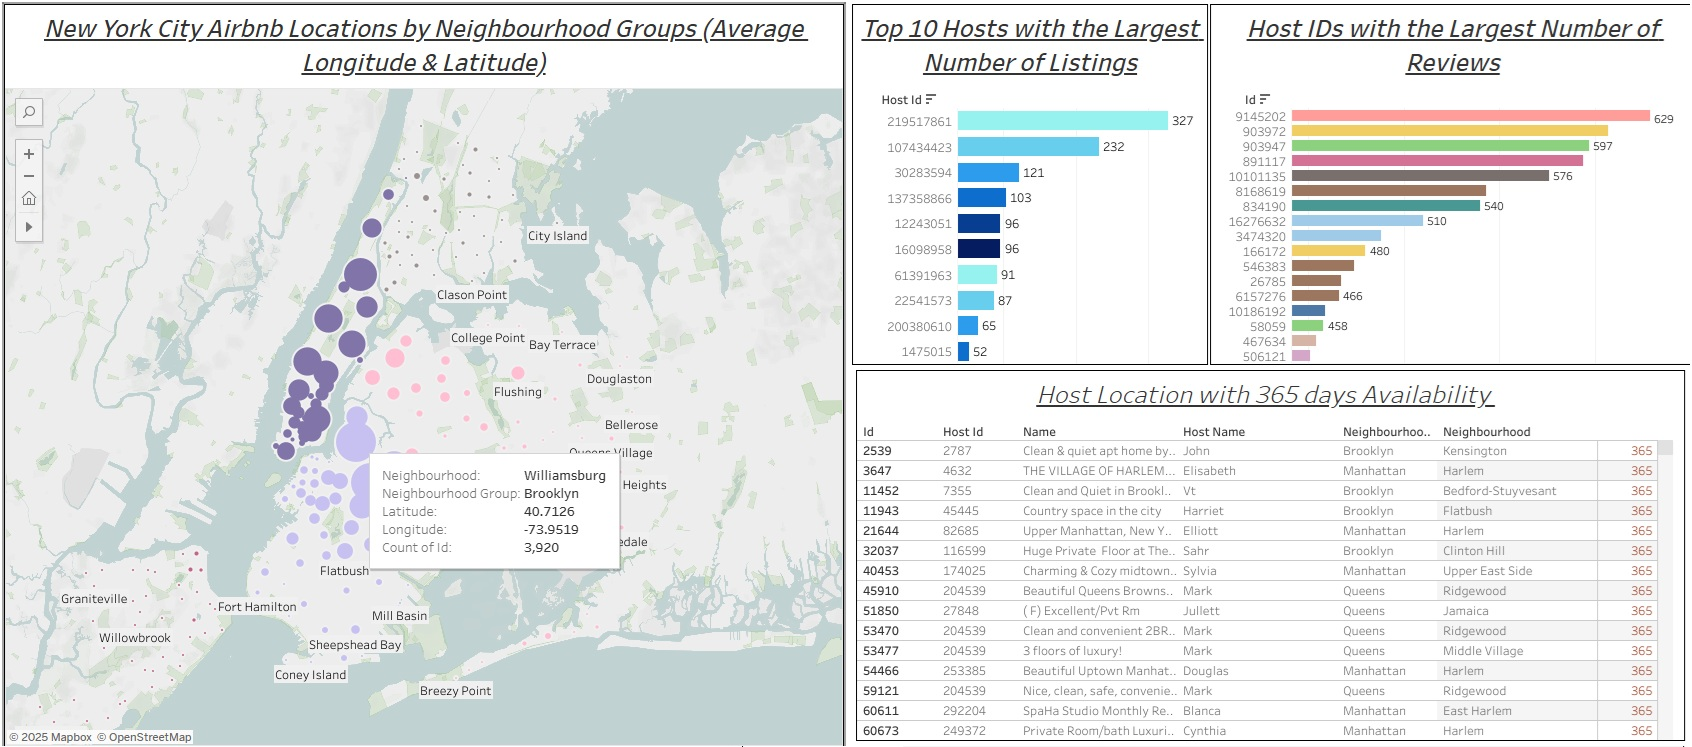

The dashboard page shown, as its layout file describes it:
{"tool":"tableau","page":{"name":"Dashboard 2","canvas":[1700,750],"ordinal":1},"visuals":[{"type":"worksheet","title":"Map by Average Long&Lat","mark":"Circle","rows":["latitude"],"cols":["longitude"],"box":[4,5,840,743]},{"type":"worksheet","title":"Listings per Host Id","mark":"Bar","rows":["host_id"],"cols":["calculated_host_listings_count"],"box":[852,5,356,361]},{"type":"worksheet","title":"Host IDs with Top number of Reviews","mark":"Bar","rows":["id"],"cols":["number_of_reviews"],"box":[1210,5,486,361]},{"type":"worksheet","title":"Availability 365","mark":"Automatic","rows":["id","host_id","name","host_name","neighbourhood_group","neighbourhood"],"box":[856,371,829,371]}]}

Visuals, with their boxes in screenshot pixels (x1, y1, x2, y2), scaled from the page's 1700x750 canvas onto the 1692x747 screenshot:
"Map by Average Long&Lat" worksheet (Circle marks): {"left": 4, "top": 5, "right": 840, "bottom": 745}
"Listings per Host Id" worksheet (Bar marks): {"left": 848, "top": 5, "right": 1202, "bottom": 365}
"Host IDs with Top number of Reviews" worksheet (Bar marks): {"left": 1204, "top": 5, "right": 1688, "bottom": 365}
"Availability 365" worksheet: {"left": 852, "top": 370, "right": 1677, "bottom": 739}
